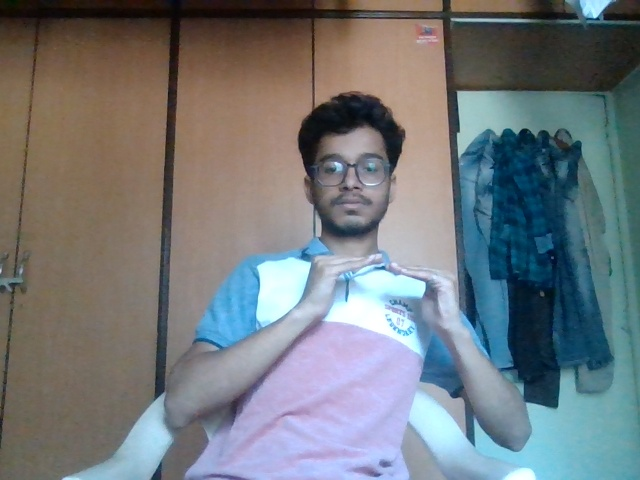afternoon: (285, 249, 482, 360)
